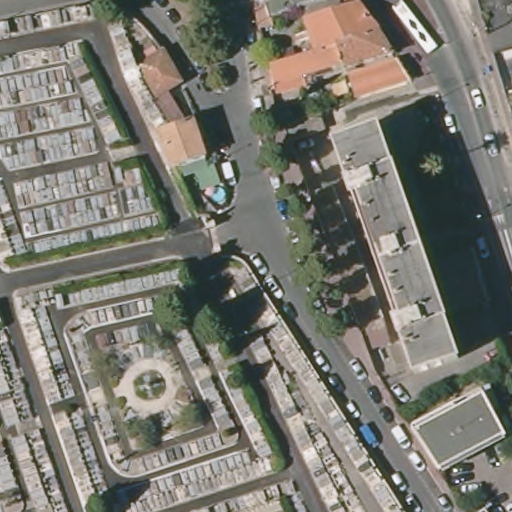pool: (206, 183, 229, 209)
